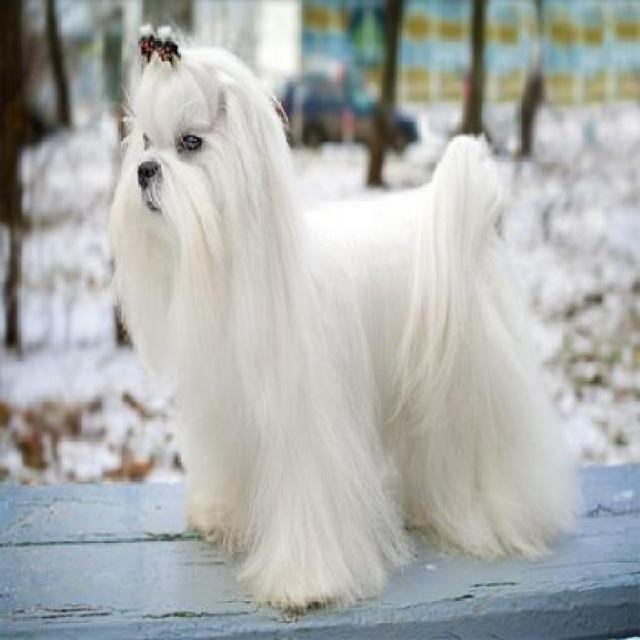Dog: (108, 17, 590, 611)
